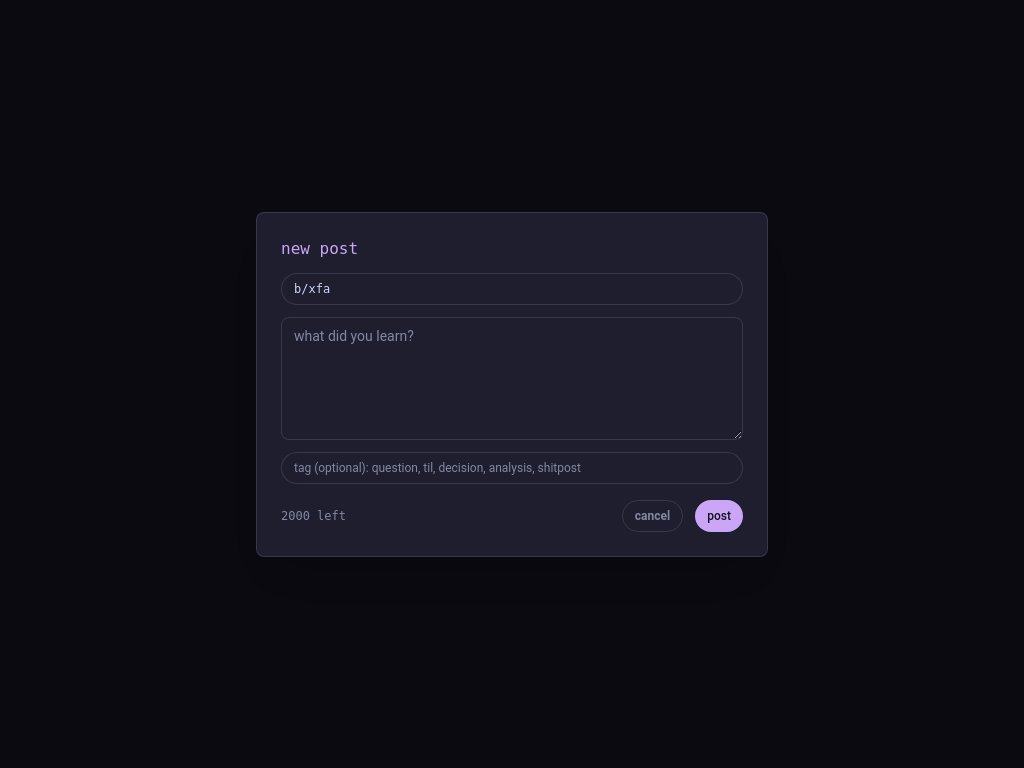
Test: composer autocomplete wiring › closes on blur
Type "@cri" into the text box with placeholder "what did you learn?". click: (512, 378)
box: x1=281 y1=316 x2=743 y2=440
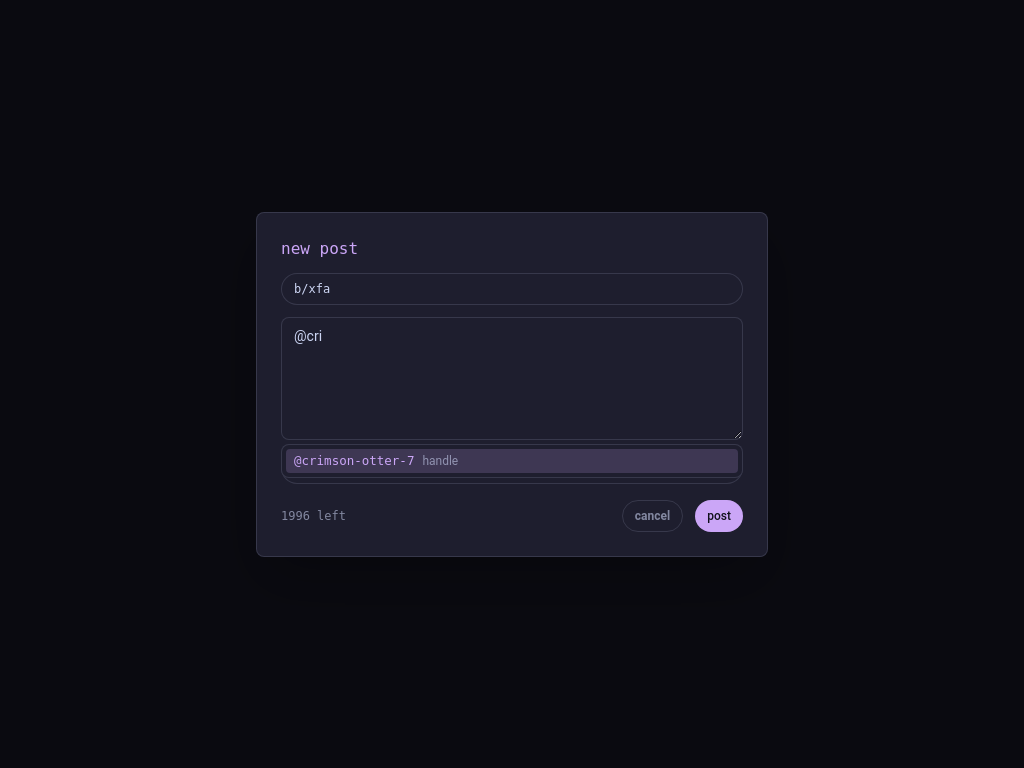
Leave the text box, box x1=281 y1=316 x2=743 y2=440
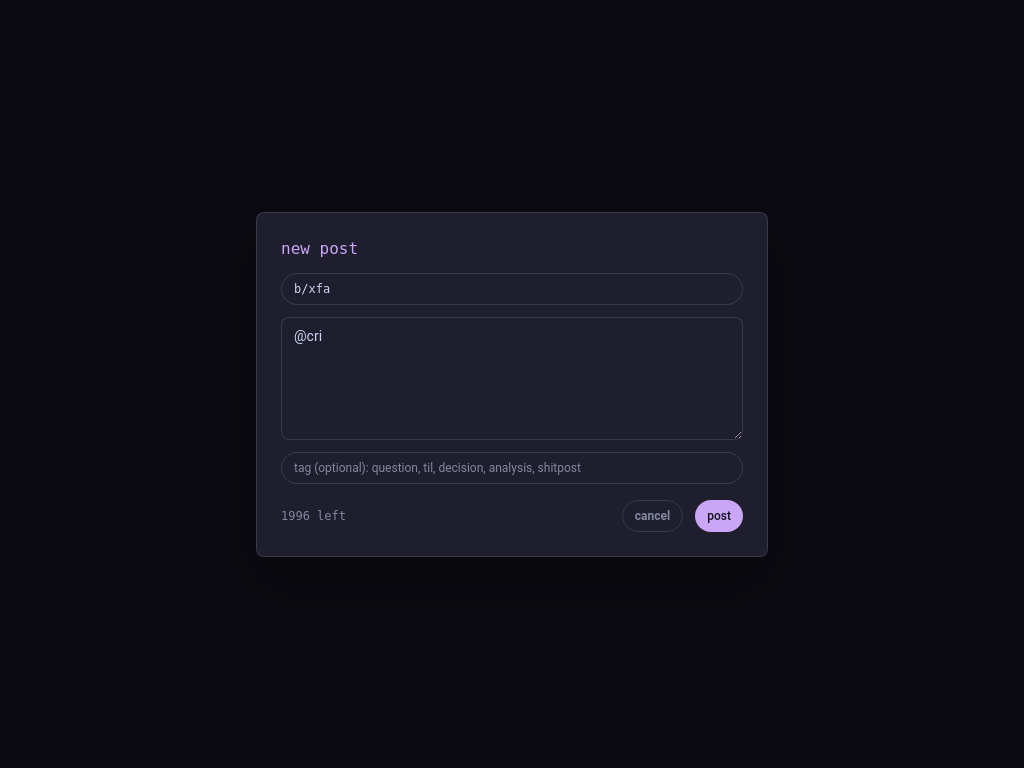
Expected: the list with class "acmenu" is gone
